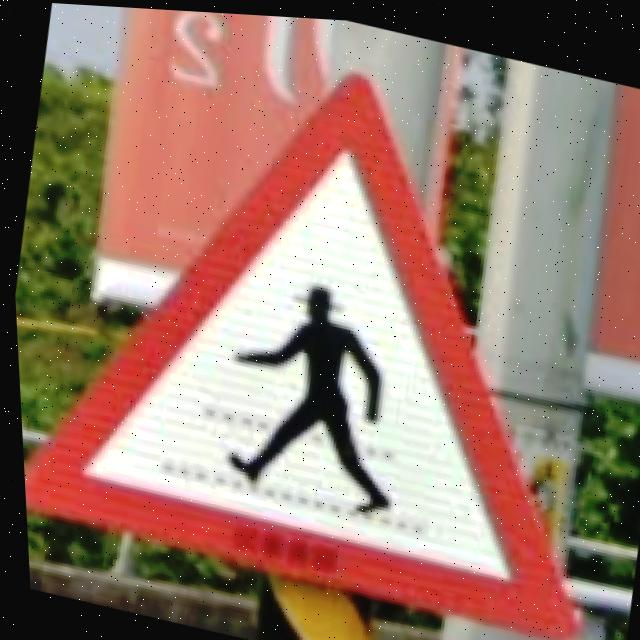pedestriancross: (19, 66, 575, 640)
